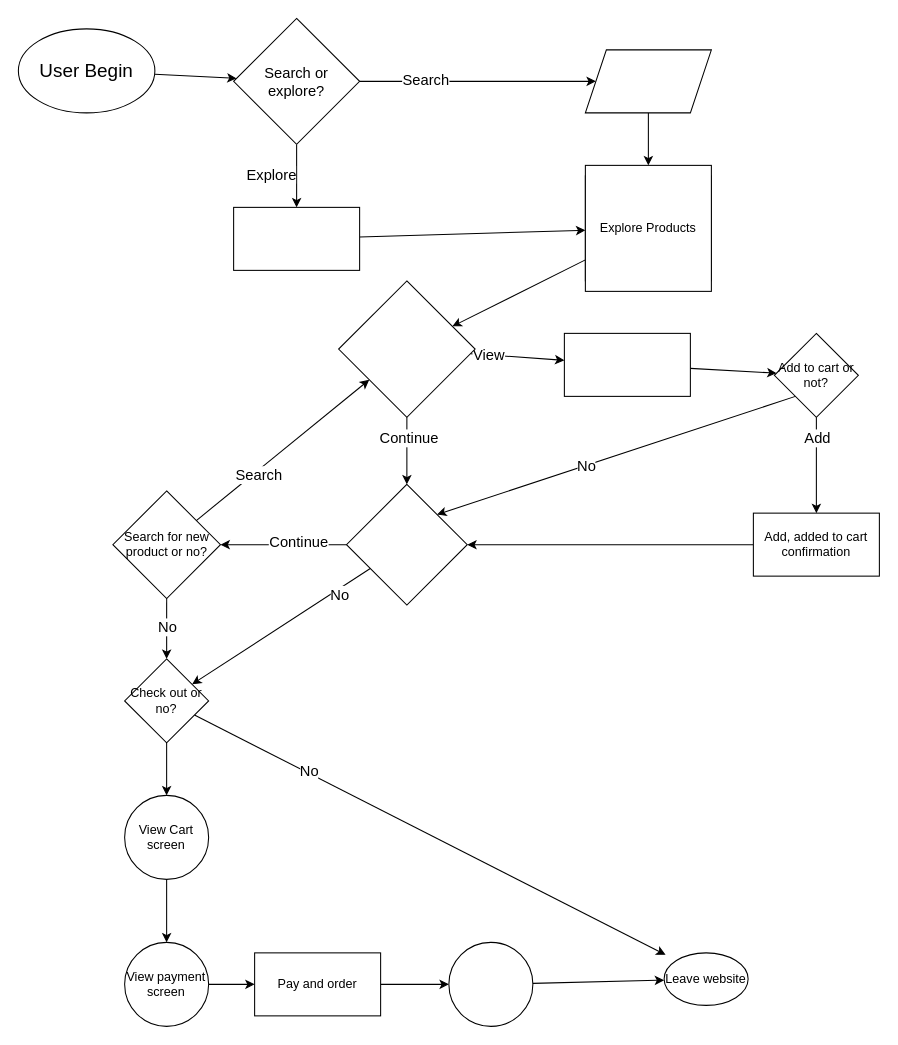
This 898x1045 diagram has some shape labels left out. The centre of each missing label's shape, as x and y in pixels:
Continue shopping or no?: the point at 406,544
Home Page: the point at 296,238
Input product: the point at 647,81
Order confirmation screen and email: the point at 490,983
Product webpage open: the point at 626,364
View product or continue shopping: the point at 406,348
